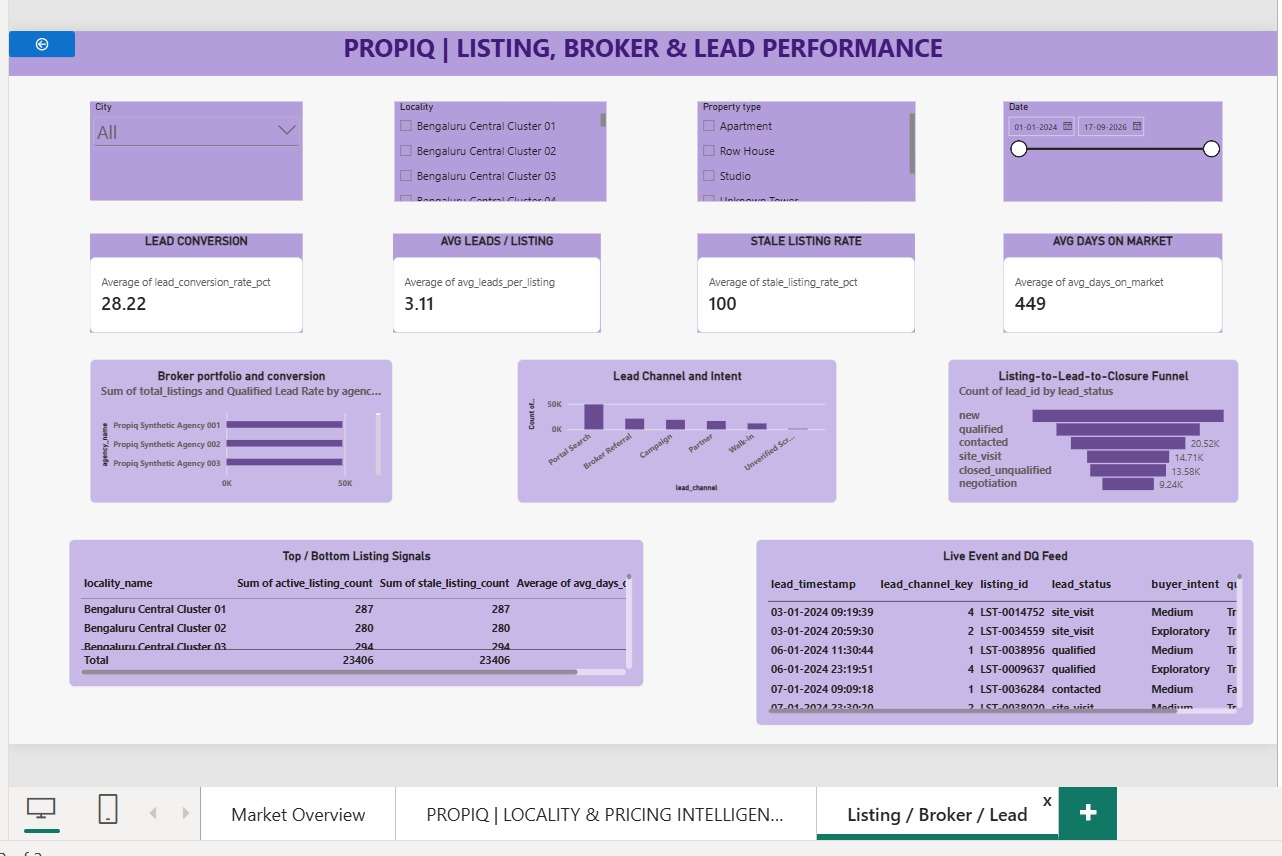

This screenshot's page, from the dashboard's own definition file:
{"tool":"powerbi","page":{"name":"Listing / Broker / Lead","canvas":[1920,1080],"ordinal":2},"visuals":[{"type":"textbox","box":[0,0,1920,68],"z":0},{"type":"slicer","fields":{"Values":["gold_dim_locality.city"]},"box":[123.1,106.8,322.1,150.2],"z":1000},{"type":"slicer","fields":{"Values":["gold_dim_locality.locality_name"]},"box":[582.7,106.8,320.3,149.9],"z":2000},{"type":"slicer","fields":{"Values":["gold_dim_property.property_type"]},"box":[1042.4,106.8,329.3,149.9],"z":3000},{"type":"slicer","fields":{"Values":["gold_dim_date.date_key"]},"box":[1505.6,106.8,331.2,150.2],"z":4000},{"type":"cardVisual","title":"LEAD CONVERSION","fields":{"Data":["Avg(gold_lead_conversion_summary.lead_conversion_rate_pct)"]},"box":[123.1,307.6,322.1,150.2],"z":5000},{"type":"cardVisual","title":"AVG LEADS / LISTING","fields":{"Data":["Avg(gold_lead_conversion_summary.avg_leads_per_listing)"]},"box":[580.9,307.6,314.9,150.2],"z":6000},{"type":"cardVisual","title":"STALE LISTING RATE","fields":{"Data":["Avg(gold_inventory_age_summary.stale_listing_rate_pct)"]},"box":[1042.4,307.6,329.4,150.2],"z":7000},{"type":"cardVisual","title":"AVG DAYS ON MARKET","fields":{"Data":["Avg(gold_listing_performance_summary.avg_days_on_market)"]},"box":[1505.6,307.6,331.2,150.2],"z":8000},{"type":"clusteredBarChart","title":"Broker portfolio and conversion","fields":{"Category":["gold_broker_performance_summary.agency_name"],"Y":["Sum(gold_listing_performance_summary.total_listings)"]},"box":[123.1,497.7,457.8,217.2],"z":9000},{"type":"clusteredColumnChart","title":"Lead Channel and Intent","fields":{"Category":["gold_dim_lead_channel.lead_channel"],"Y":["CountNonNull(gold_fact_lead.lead_id)"]},"box":[769.1,497.7,483.2,217.2],"z":10000},{"type":"funnel","title":"Listing-to-Lead-to-Closure Funnel","fields":{"Category":["gold_fact_lead.lead_status"],"Y":["CountNonNull(gold_fact_lead.lead_id)"]},"box":[1422.4,497.7,439.7,217.2],"z":11000},{"type":"tableEx","title":"Top / Bottom Listing Signals","fields":{"Values":["gold_dim_locality.locality_name","Sum(gold_listing_performance_summary.active_listing_count)","Sum(gold_listing_performance_summary.stale_listing_count)","Avg(gold_listing_performance_summary.avg_days_on_market)"]},"box":[90.9,770,869.9,222.6],"z":12000},{"type":"actionButton","box":[0,0,100,40],"z":13000},{"type":"tableEx","title":"Live Event and DQ Feed","fields":{"Values":["gold_fact_lead.lead_timestamp","gold_fact_lead.lead_channel_key","gold_fact_lead.listing_id","gold_fact_lead.lead_status","gold_fact_lead.buyer_intent","gold_fact_lead.qualified_flag"]},"box":[1131.1,770,754.1,281.6],"z":14000}]}

Visuals, with their boxes in screenshot pixels (x1, y1, x2, y2):
textbox: left=7, top=27, right=1271, bottom=71
slicer - gold_dim_locality.city: left=88, top=97, right=300, bottom=196
slicer - gold_dim_locality.locality_name: left=390, top=97, right=601, bottom=196
slicer - gold_dim_property.property_type: left=693, top=97, right=910, bottom=196
slicer - gold_dim_date.date_key: left=998, top=97, right=1216, bottom=196
"LEAD CONVERSION" cardVisual: left=88, top=229, right=300, bottom=328
"AVG LEADS / LISTING" cardVisual: left=389, top=229, right=597, bottom=328
"STALE LISTING RATE" cardVisual: left=693, top=229, right=910, bottom=328
"AVG DAYS ON MARKET" cardVisual: left=998, top=229, right=1216, bottom=328
"Broker portfolio and conversion" clusteredBarChart: left=88, top=354, right=389, bottom=497
"Lead Channel and Intent" clusteredColumnChart: left=513, top=354, right=831, bottom=497
"Listing-to-Lead-to-Closure Funnel" funnel: left=943, top=354, right=1233, bottom=497
"Top / Bottom Listing Signals" tableEx: left=67, top=534, right=639, bottom=680
actionButton: left=7, top=27, right=73, bottom=53
"Live Event and DQ Feed" tableEx: left=751, top=534, right=1248, bottom=719
